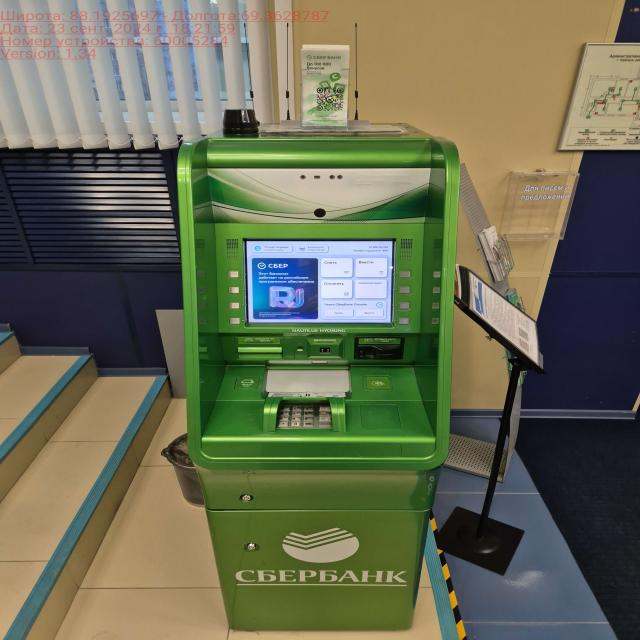bank: (172, 122, 454, 640)
